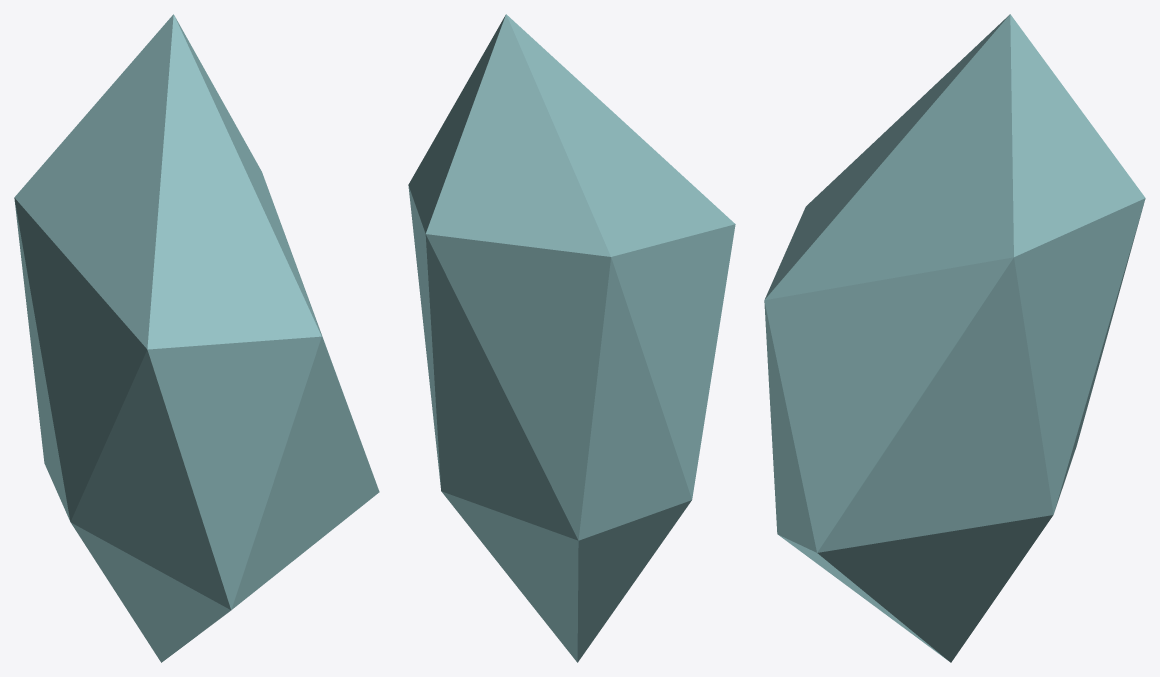
The model's file is kamen 1.fbx.
3 views of the same model, side by side, from view 1: azimuth 30°, elevation 25°; view 2: azimuth 150°, elevation 25°; view 3: azimuth 270°, elevation 25° (orthographic). The views are drawn at different scales.
Parts seen in each view (by area): view 1: Icosphere; view 2: Icosphere; view 3: Icosphere.
Boxes of the visible parts, x1=… form: Icosphere: x1=14, y1=14, x2=379, y2=662; Icosphere: x1=408, y1=14, x2=735, y2=662; Icosphere: x1=764, y1=14, x2=1145, y2=662.
Bounding box in the file's own units: 417 × 966 × 498.
